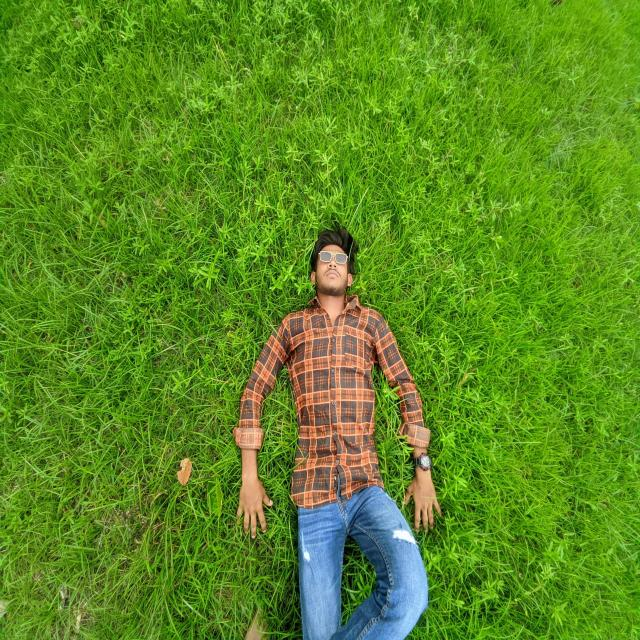lie: (283, 210, 425, 640)
